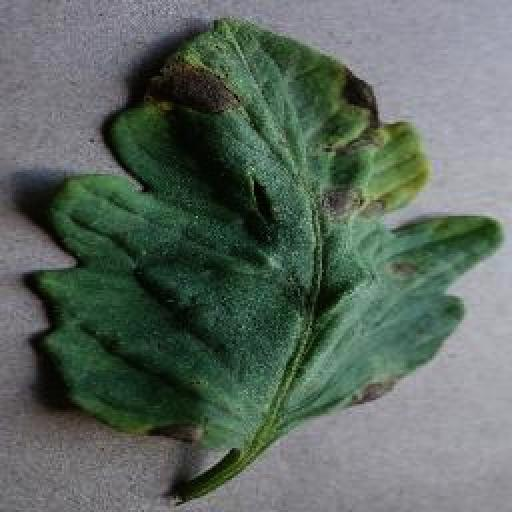disease_tomato: (30, 19, 500, 441)
